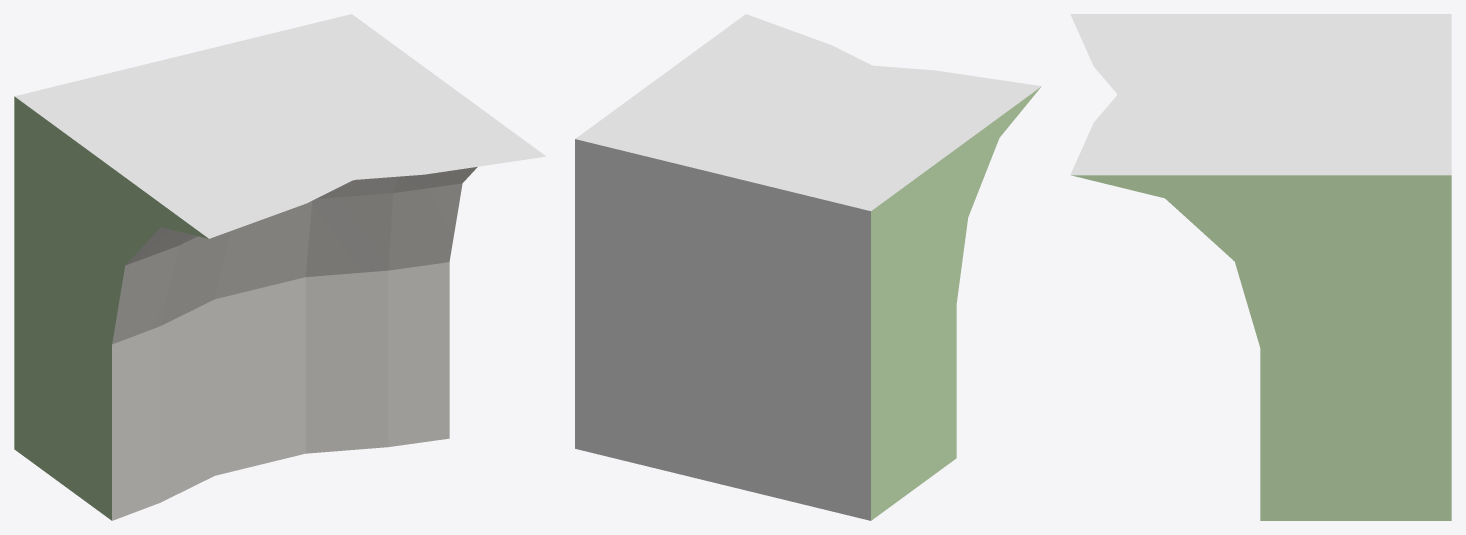
File: Wall_Straight_Deformed_Concave_2x2_Top.glb
3 views of the same model, side by side, from view 1: azimuth 30°, elevation 25°; view 2: azimuth 150°, elevation 25°; view 3: azimuth 270°, elevation 25° (orthographic). The views are drawn at different scales.
Parts seen in each view (by area): view 1: Wall_Straight_Deformed_Concave_2x2_Top; view 2: Wall_Straight_Deformed_Concave_2x2_Top; view 3: Wall_Straight_Deformed_Concave_2x2_Top.
Boxes of the visible parts, x1,y1,x2,y2 form: Wall_Straight_Deformed_Concave_2x2_Top: [14, 14, 545, 520]; Wall_Straight_Deformed_Concave_2x2_Top: [575, 14, 1041, 520]; Wall_Straight_Deformed_Concave_2x2_Top: [1070, 14, 1451, 520].
Bounding box in the file's own units: 200 × 200 × 200.
